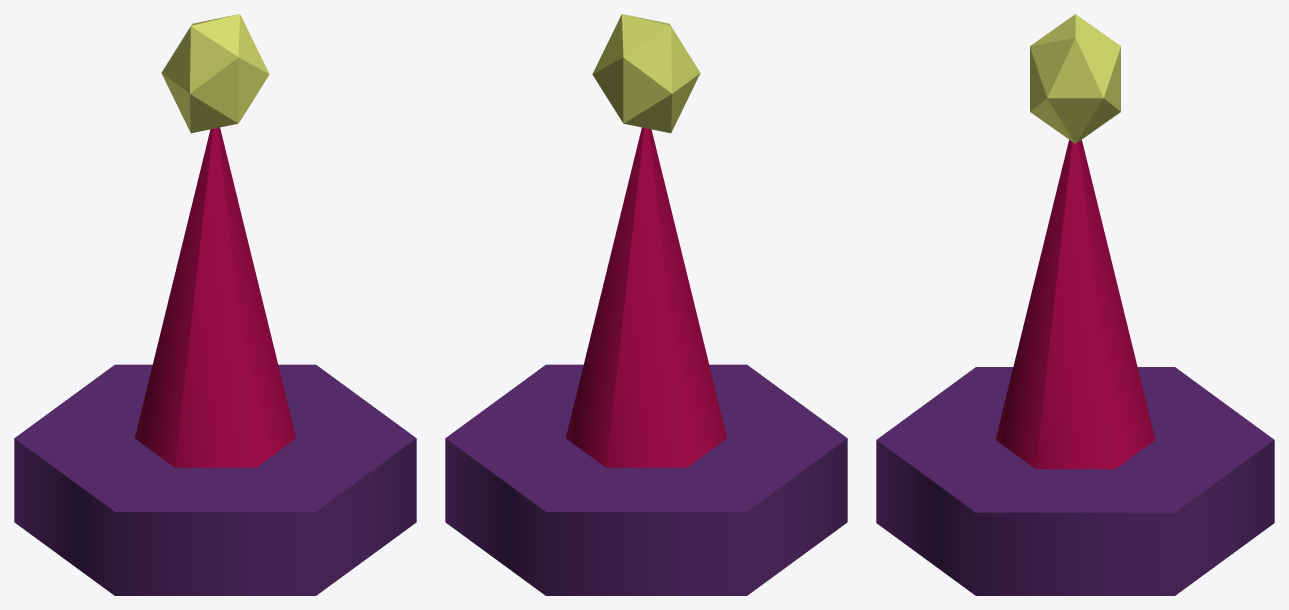
Rendered from feather-shrine.glb.
The picture shows the model from 3 angles, left to right: view 1: azimuth 30°, elevation 25°; view 2: azimuth 150°, elevation 25°; view 3: azimuth 270°, elevation 25°; orthographic projection.
Bounding box in the file's own units: 2.25 × 3.58 × 2.6.
